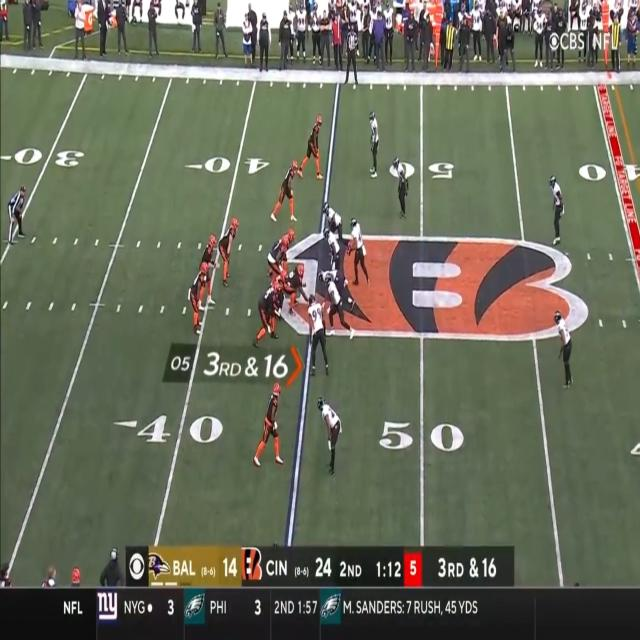Ball: (307, 296, 312, 306)
